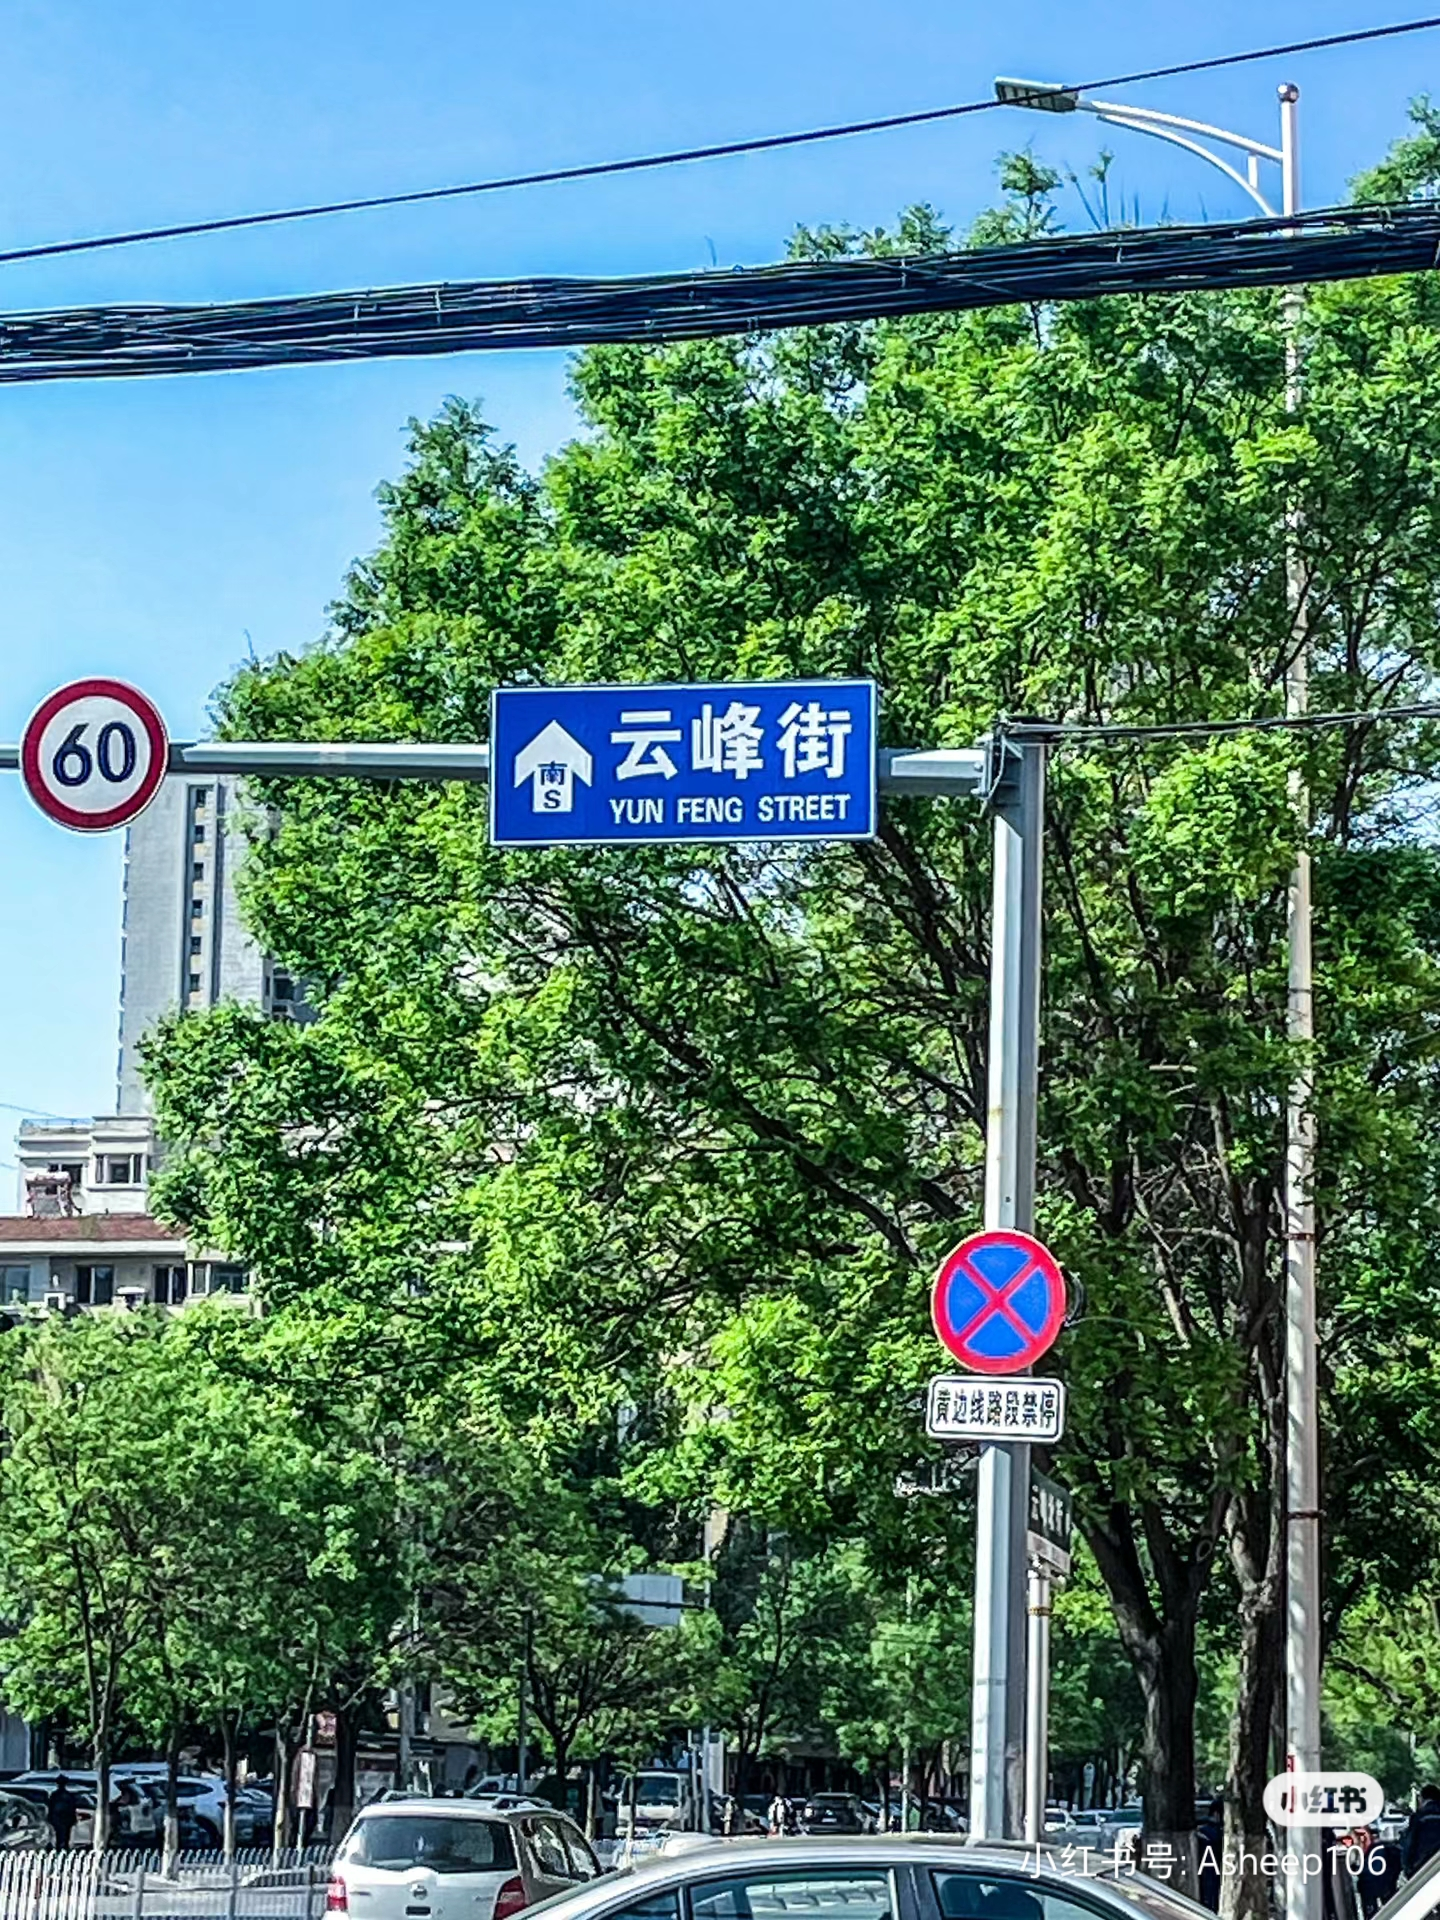pl60: (20, 682, 180, 827), (933, 1235, 1060, 1377)
